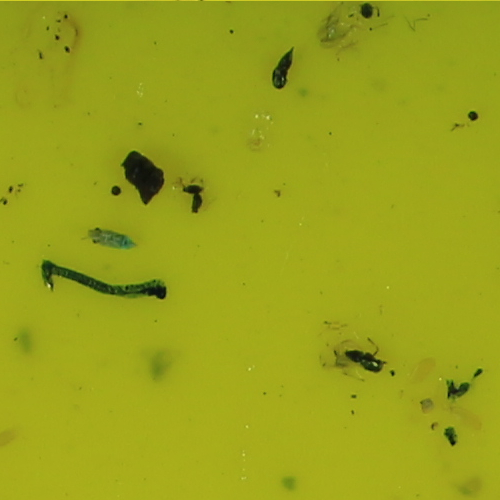psylla: (86, 223, 139, 253)
wasp: (342, 346, 392, 373)
